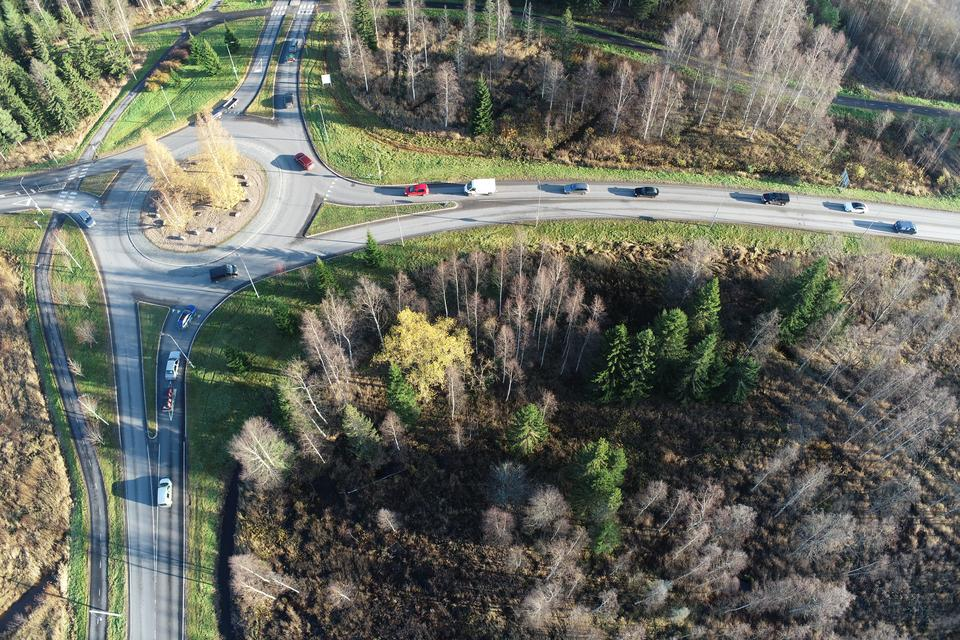intersection: (40, 150, 90, 243)
roundabout: (94, 86, 375, 335)
